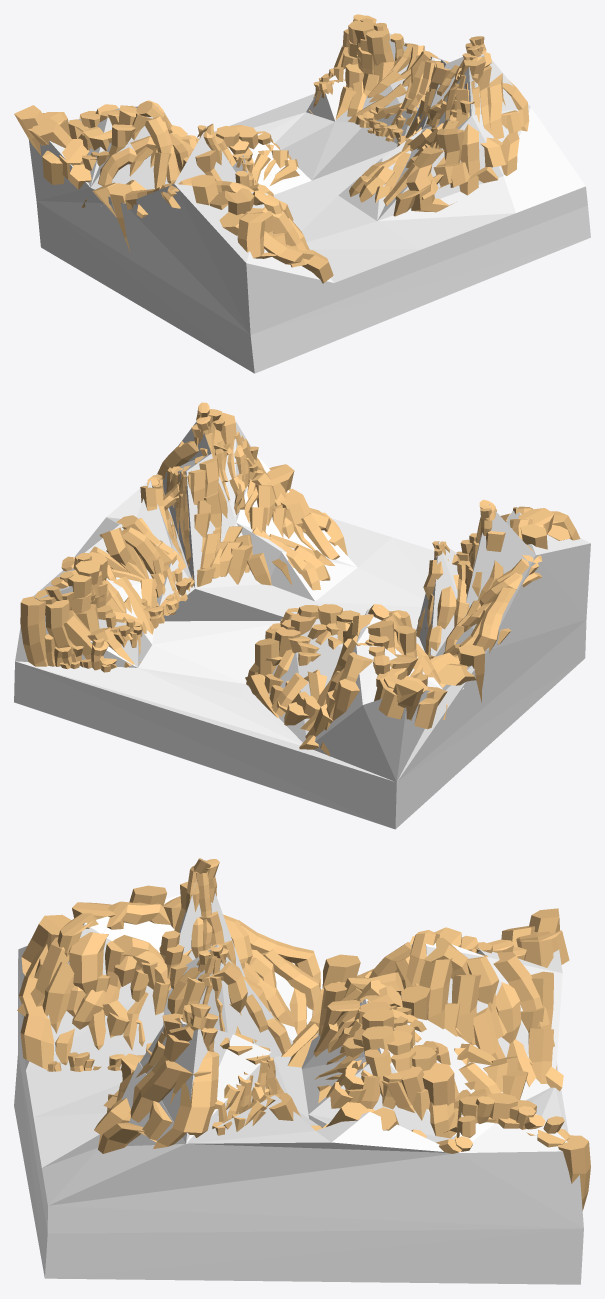
Rendered from snow1_lev5.glb.
3 renders of one model, top to bottom at view 1: azimuth 30°, elevation 25°; view 2: azimuth 150°, elevation 25°; view 3: azimuth 270°, elevation 25°, orthographic. The views are drawn at different scales.
Visible parts, largest first — view 1: group1213442301, group1232652771, group1020127045, group1915387679, group1830459623, group981096431, group2094047803, group2008133471, group1276007313, group580696851, group195784626, group1542709137 (+6 smaller); view 2: group1213442301, group1232652771, group1513979947, group1020127045, group1098835944, group1915387679, group1175089405, group2094047803, group2008133471, group207062719, group1276007313, group1402888313 (+21 smaller); view 3: group1213442301, group1232652771, group1915387679, group1020127045, group1830459623, group2094047803, group235236272, group1402888313, group788433588, group1195345600, group1098835944, group246772319 (+41 smaller).
Boxes of the visible parts, x1=… form: group1213442301: x1=28, y1=33, x2=590, y2=373; group1232652771: x1=406, y1=65, x2=521, y2=199; group1020127045: x1=191, y1=174, x2=310, y2=267; group1915387679: x1=393, y1=68, x2=529, y2=216; group1830459623: x1=219, y1=212, x2=333, y2=283; group981096431: x1=42, y1=138, x2=91, y2=189; group2094047803: x1=28, y1=112, x2=72, y2=147; group2008133471: x1=68, y1=110, x2=109, y2=170; group1276007313: x1=83, y1=105, x2=137, y2=150; group580696851: x1=366, y1=28, x2=394, y2=66; group195784626: x1=98, y1=147, x2=136, y2=185; group1542709137: x1=144, y1=116, x2=172, y2=153; group1213442301: x1=14, y1=421, x2=590, y2=829; group1232652771: x1=179, y1=439, x2=331, y2=531; group1513979947: x1=20, y1=596, x2=48, y2=666; group1020127045: x1=518, y1=508, x2=580, y2=549; group1098835944: x1=472, y1=587, x2=515, y2=653; group1915387679: x1=157, y1=441, x2=347, y2=555; group1175089405: x1=45, y1=599, x2=73, y2=648; group2094047803: x1=374, y1=676, x2=427, y2=719; group2008133471: x1=368, y1=645, x2=427, y2=686; group207062719: x1=44, y1=634, x2=91, y2=668; group1276007313: x1=367, y1=620, x2=418, y2=675; group1402888313: x1=320, y1=652, x2=372, y2=756; group1213442301: x1=14, y1=859, x2=583, y2=1284; group1232652771: x1=94, y1=1034, x2=211, y2=1142; group1915387679: x1=98, y1=1051, x2=219, y2=1153; group1020127045: x1=17, y1=885, x2=166, y2=1016; group1830459623: x1=18, y1=944, x2=54, y2=1070; group2094047803: x1=501, y1=926, x2=569, y2=967; group235236272: x1=69, y1=932, x2=108, y2=994; group1402888313: x1=493, y1=952, x2=556, y2=1070; group788433588: x1=419, y1=958, x2=452, y2=1029; group1195345600: x1=452, y1=974, x2=481, y2=1045; group1098835944: x1=239, y1=920, x2=320, y2=986; group246772319: x1=42, y1=962, x2=74, y2=1033.
Bounding box in the file's own units: 644 × 364 × 606.
